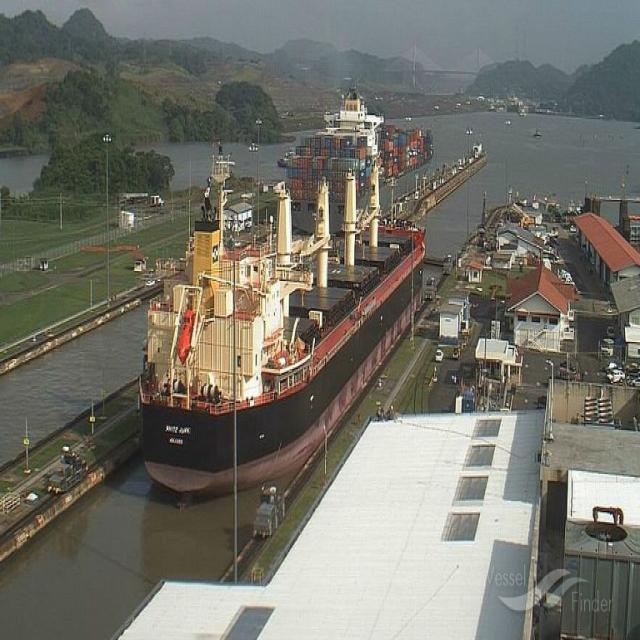OCR: (163, 416, 195, 458)
